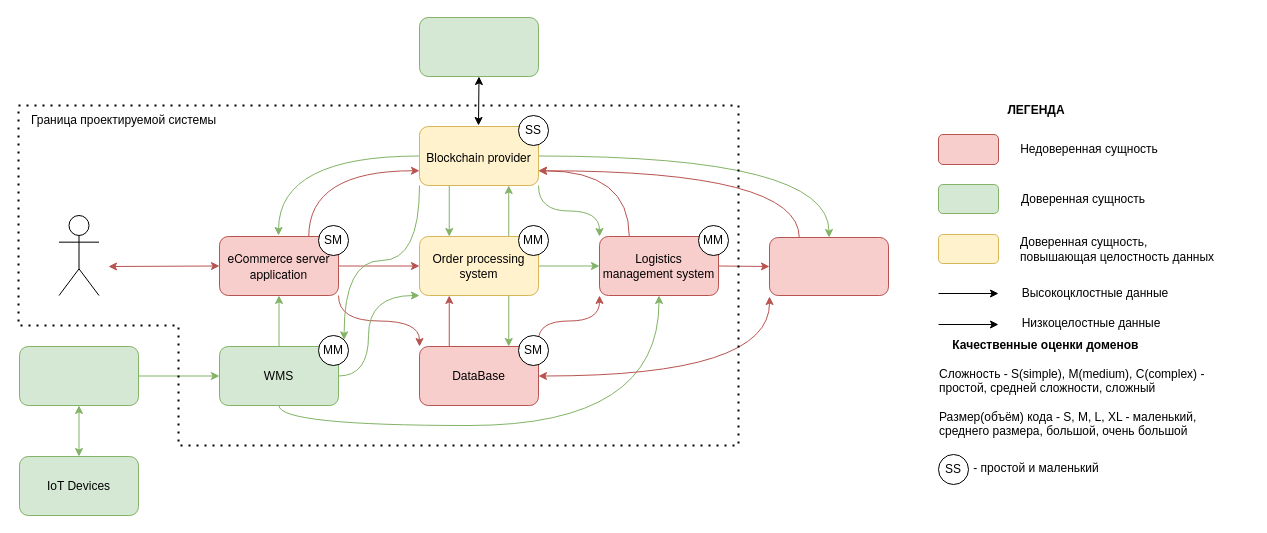
Image size: 1267x533. Some labels were removed from this diagram. The shapes that lost their labels are listed below. From the top down, each one's centre as x and y in pixels, then its label:
At [478,46]: "DLT".
At [78,255]: "User".
At [828,266]: "Post-delivery system".
At [78,376]: "Monitoring IoT devices system".
